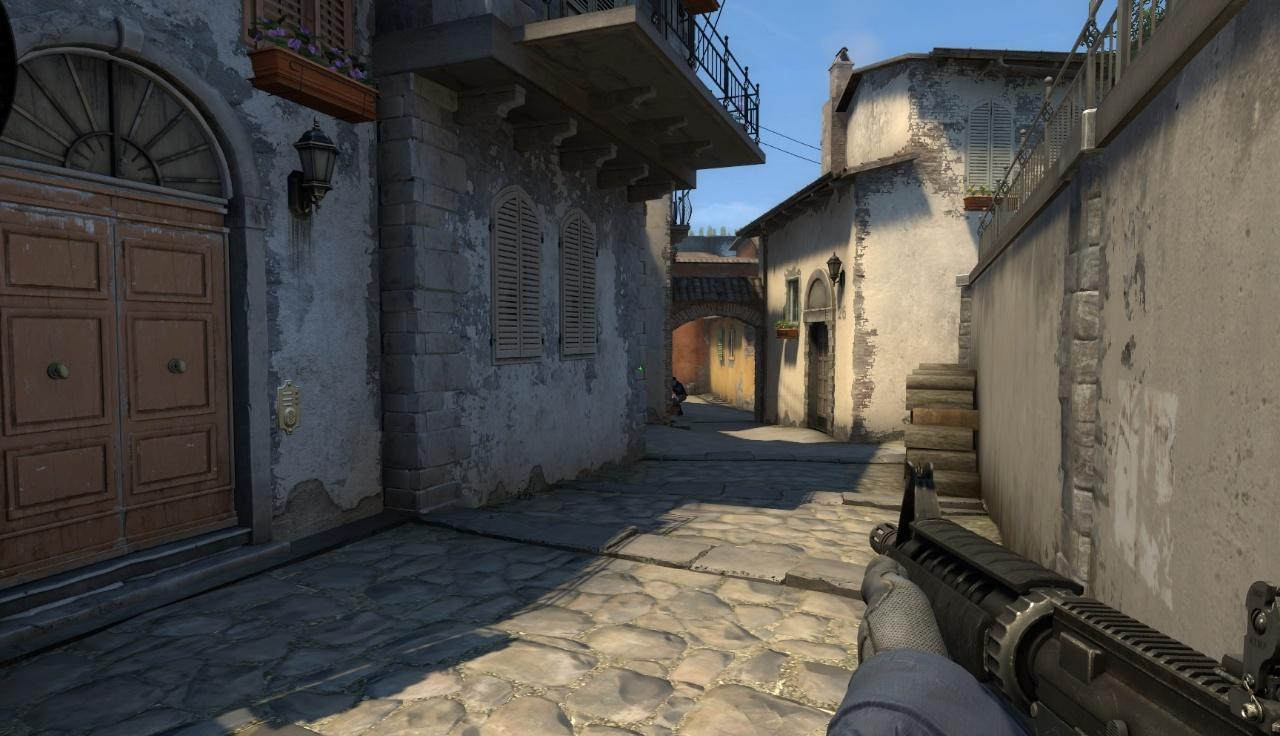rifle: (864, 481, 1280, 728)
tt: (671, 377, 687, 415)
tthead: (671, 377, 677, 385)
